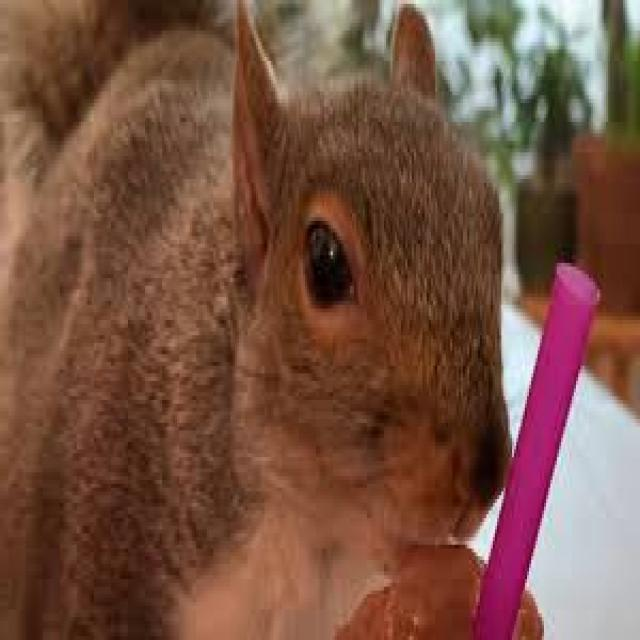squirrel: (2, 0, 510, 636)
